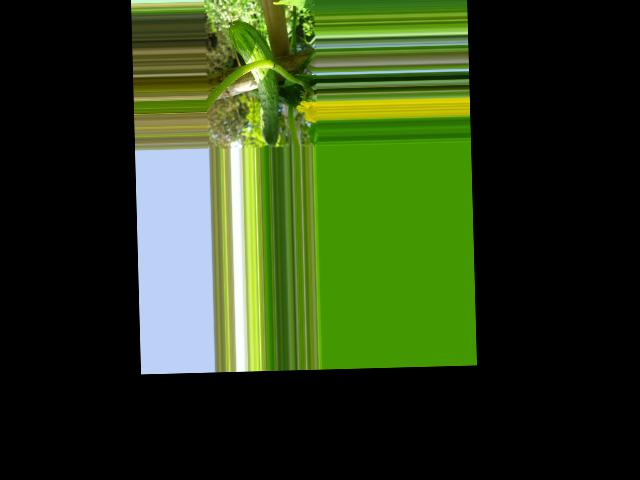cucumber: (229, 19, 280, 148)
